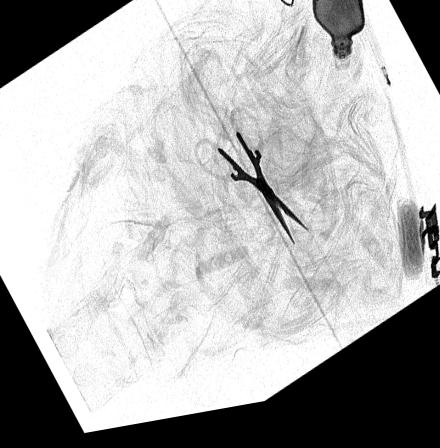Scissors: (191, 111, 312, 258)
